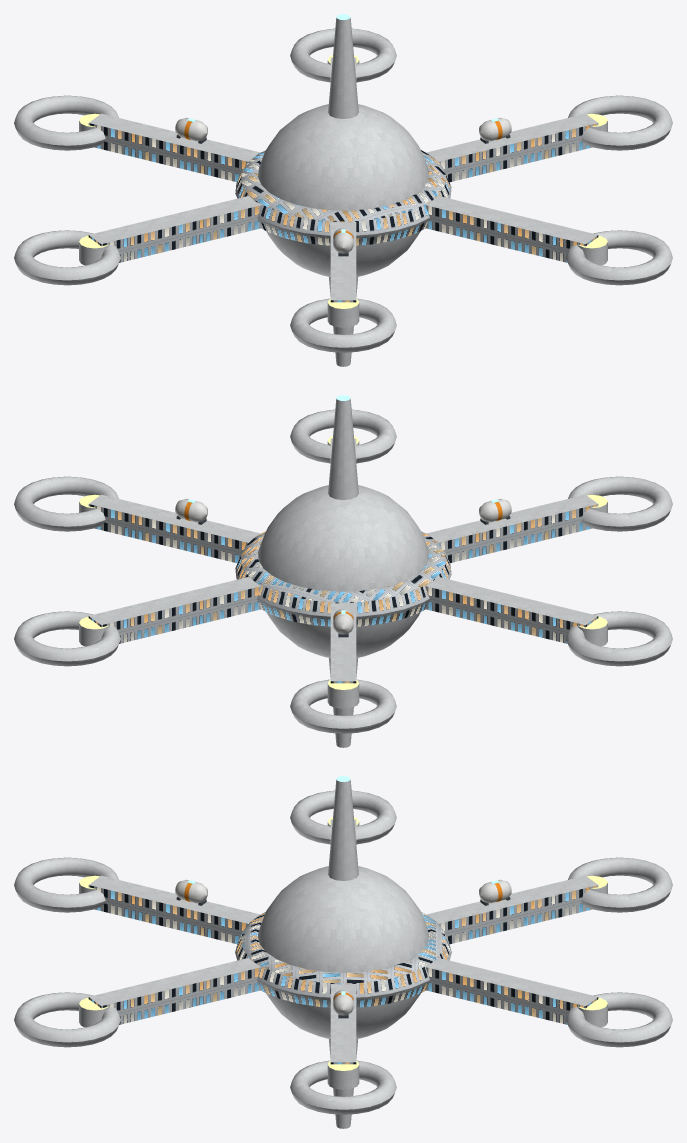
File: nebula_crossroads_hub.glb
3 views of the same model, one above another, from view 1: azimuth 30°, elevation 25°; view 2: azimuth 150°, elevation 25°; view 3: azimuth 270°, elevation 25° (orthographic).
Visible parts, largest first — view 1: nebula_crossroads_hub_LOD0; view 2: nebula_crossroads_hub_LOD0; view 3: nebula_crossroads_hub_LOD0.
Part boxes in pixels (x1,y1,x2,y2): nebula_crossroads_hub_LOD0: [14, 14, 672, 366]; nebula_crossroads_hub_LOD0: [14, 395, 672, 747]; nebula_crossroads_hub_LOD0: [14, 776, 672, 1128].
Size of what is drawn, in the model's own units: 93.4 by 48 by 82.68.
3 materials, 3 textured.
